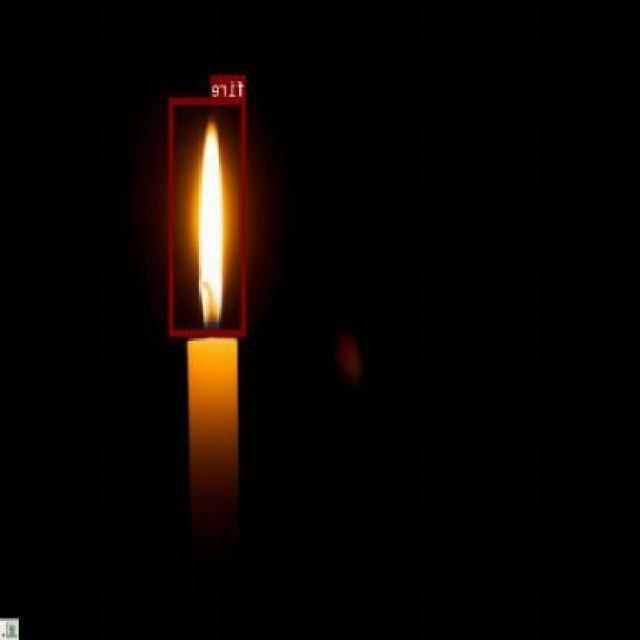fire: (170, 96, 247, 335)
